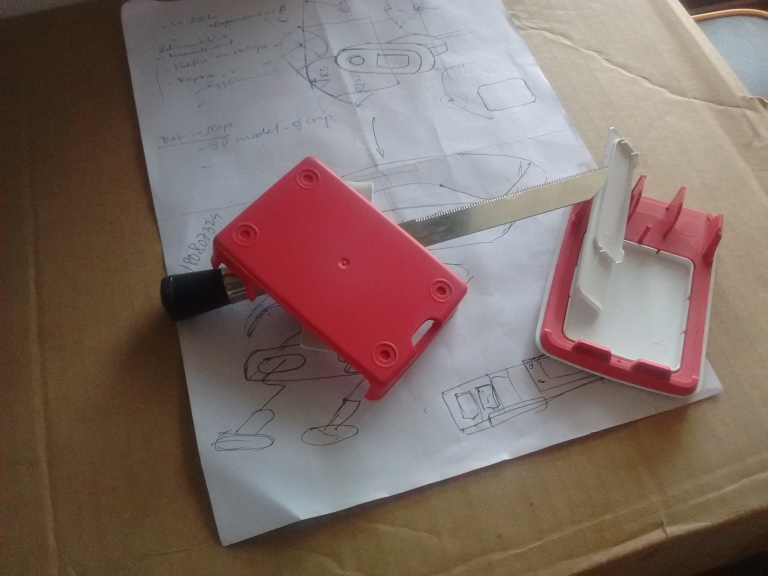knife: (158, 167, 609, 315)
